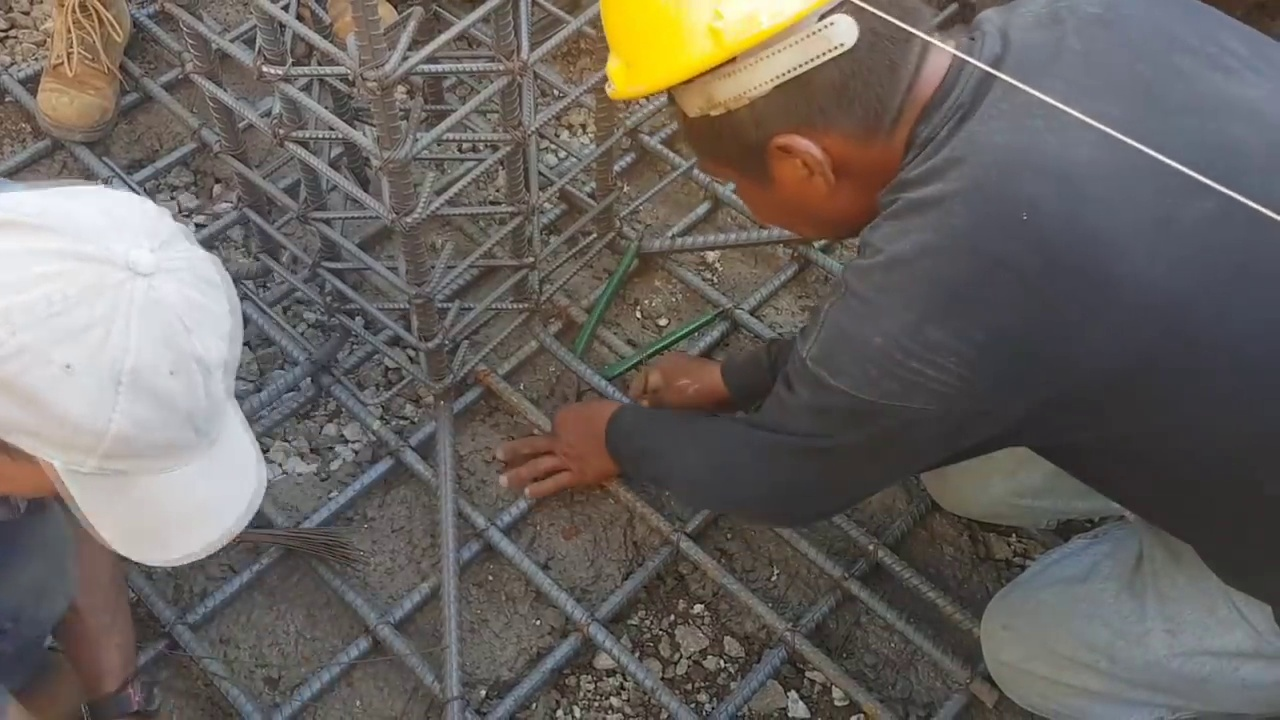helmet: (582, 0, 840, 113)
helmet-off: (4, 194, 261, 586)
helmet-on: (582, 0, 978, 251)
person: (500, 0, 1280, 706), (8, 197, 268, 719)
